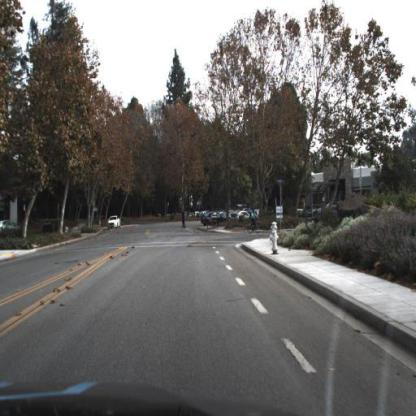biker: (246, 209, 264, 234)
car: (107, 215, 121, 231)
pedestrian: (179, 207, 188, 233)
